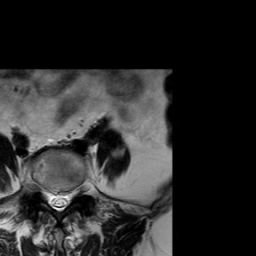CCS_normal: (55, 180, 62, 219)
LFS_normal: (70, 173, 79, 206)
LLS_normal: (62, 179, 70, 214)
RFS_normal: (39, 176, 47, 205)
RLS_normal: (47, 179, 55, 215)
